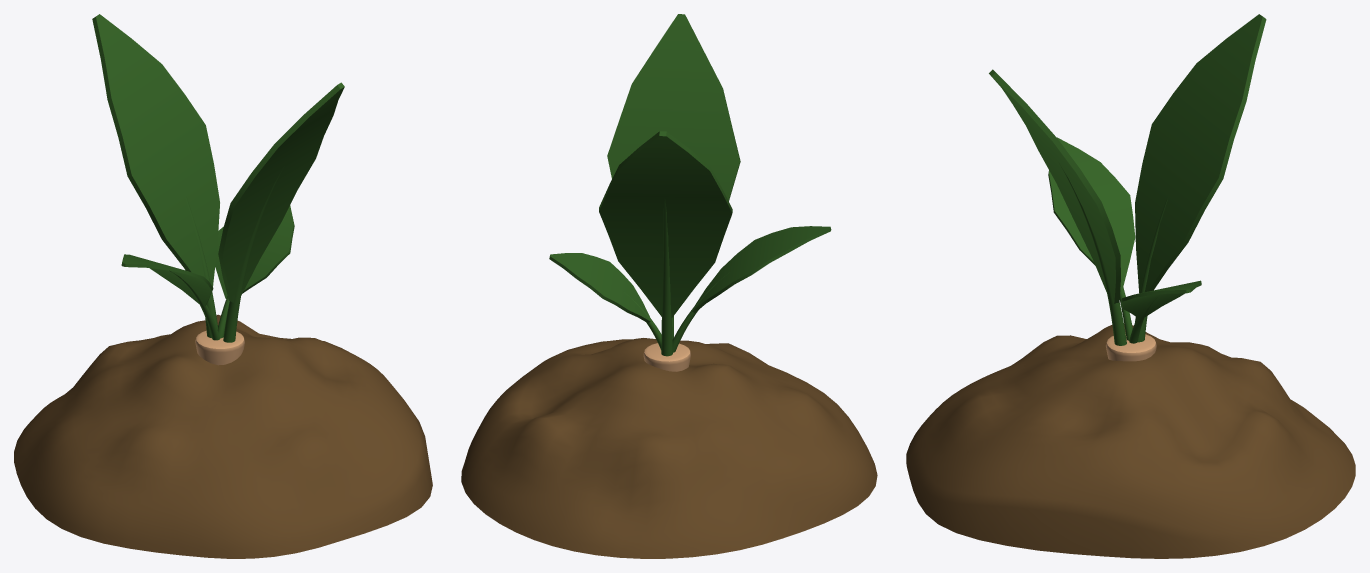
Rendered from CARROT_flowering.fbx.
3 renders of one model, left to right at view 1: azimuth 30°, elevation 25°; view 2: azimuth 150°, elevation 25°; view 3: azimuth 270°, elevation 25°, orthographic. The views are drawn at different scales.
Parts seen in each view (by area): view 1: pCube38; view 2: pCube38; view 3: pCube38.
Part boxes in pixels (box(x1,y1,x2,y2)): pCube38: box(14, 14, 432, 558); pCube38: box(461, 14, 877, 558); pCube38: box(906, 14, 1355, 558).
Bounding box in the file's own units: 0.936 × 1.03 × 0.9833.
